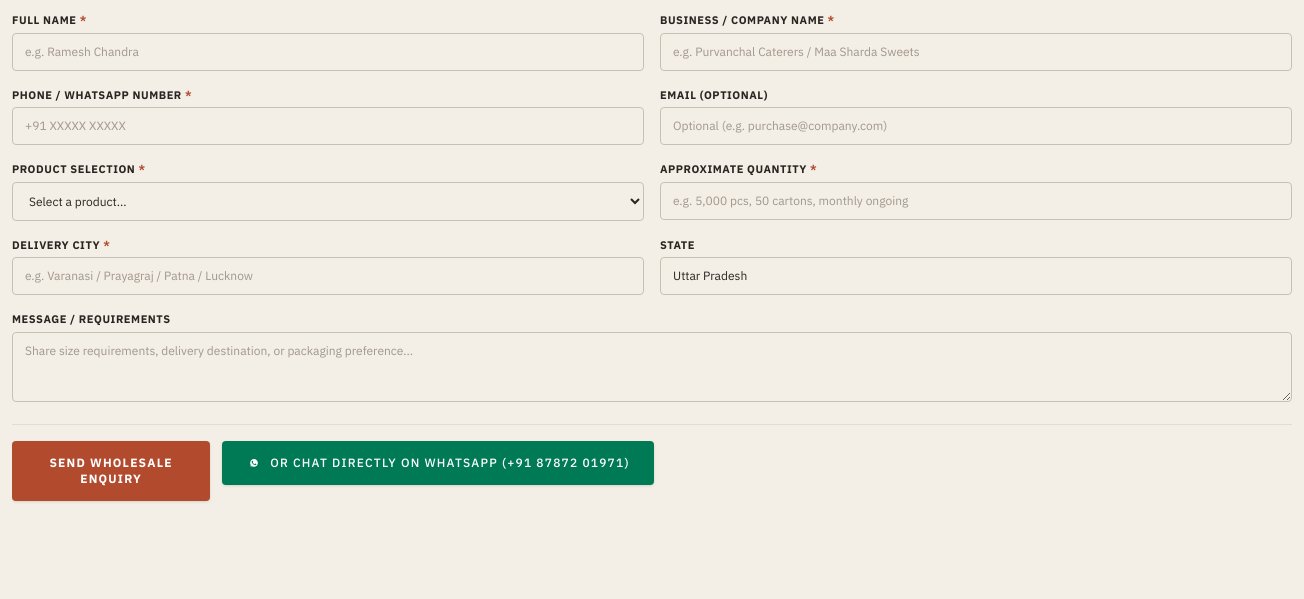
Test: EnquiryForm › shows validation errors on empty submit
Step 1. Click the button "SEND WHOLESALE ENQUIRY" → click(111, 470), box [12,440,210,500]
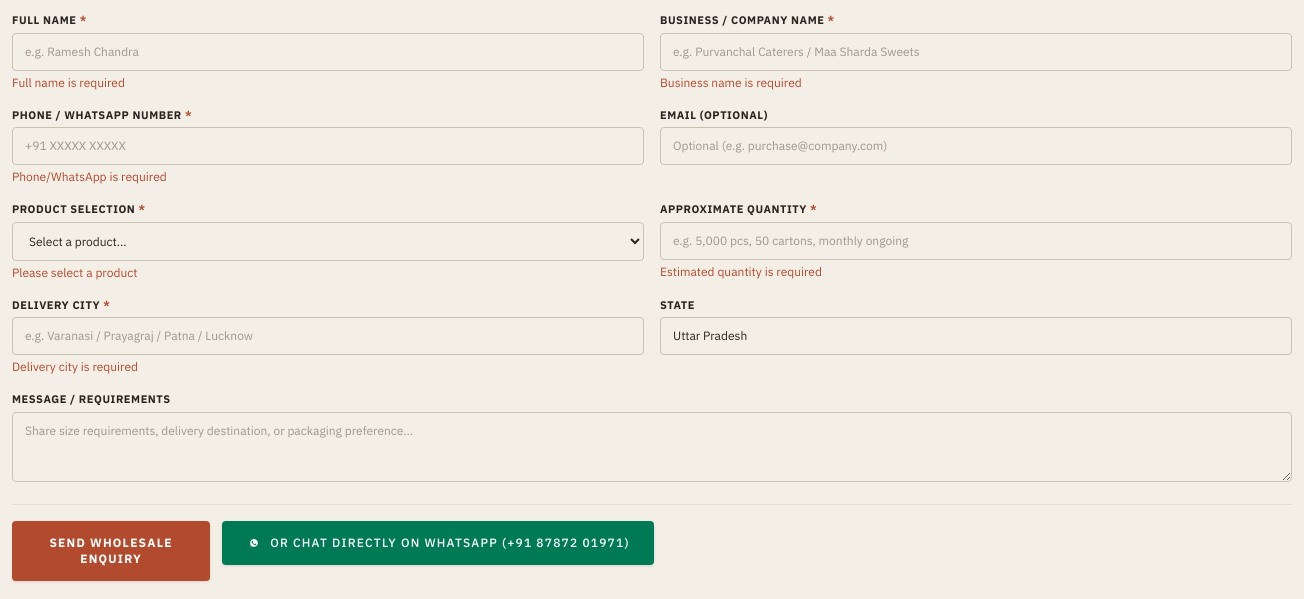
Result: the text "Full name is required" is shown at [12,74,125,90]
